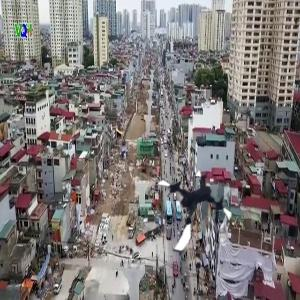drone: (145, 165, 236, 256)
